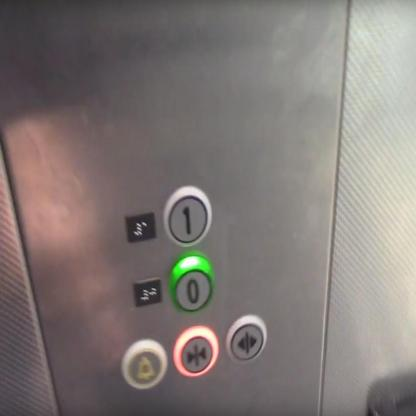0: (167, 254, 214, 314)
1: (162, 185, 211, 248)
alarm: (118, 338, 169, 391)
close: (172, 322, 219, 377)
open: (225, 312, 268, 366)
